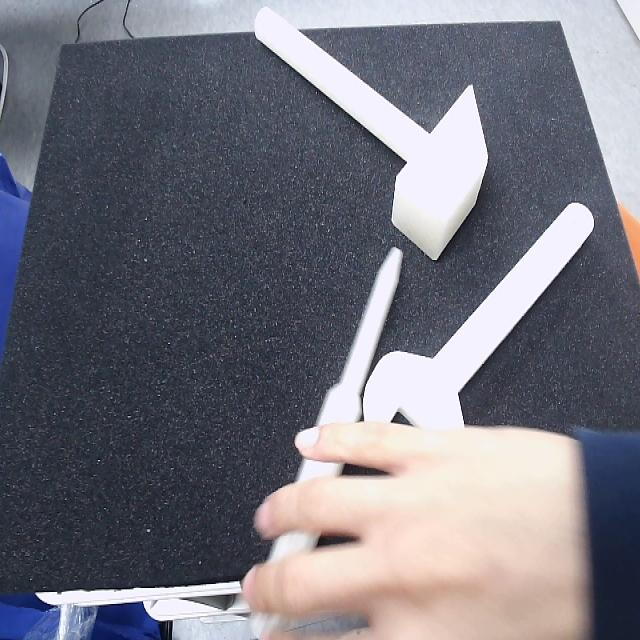Hammer: (253, 7, 488, 261)
